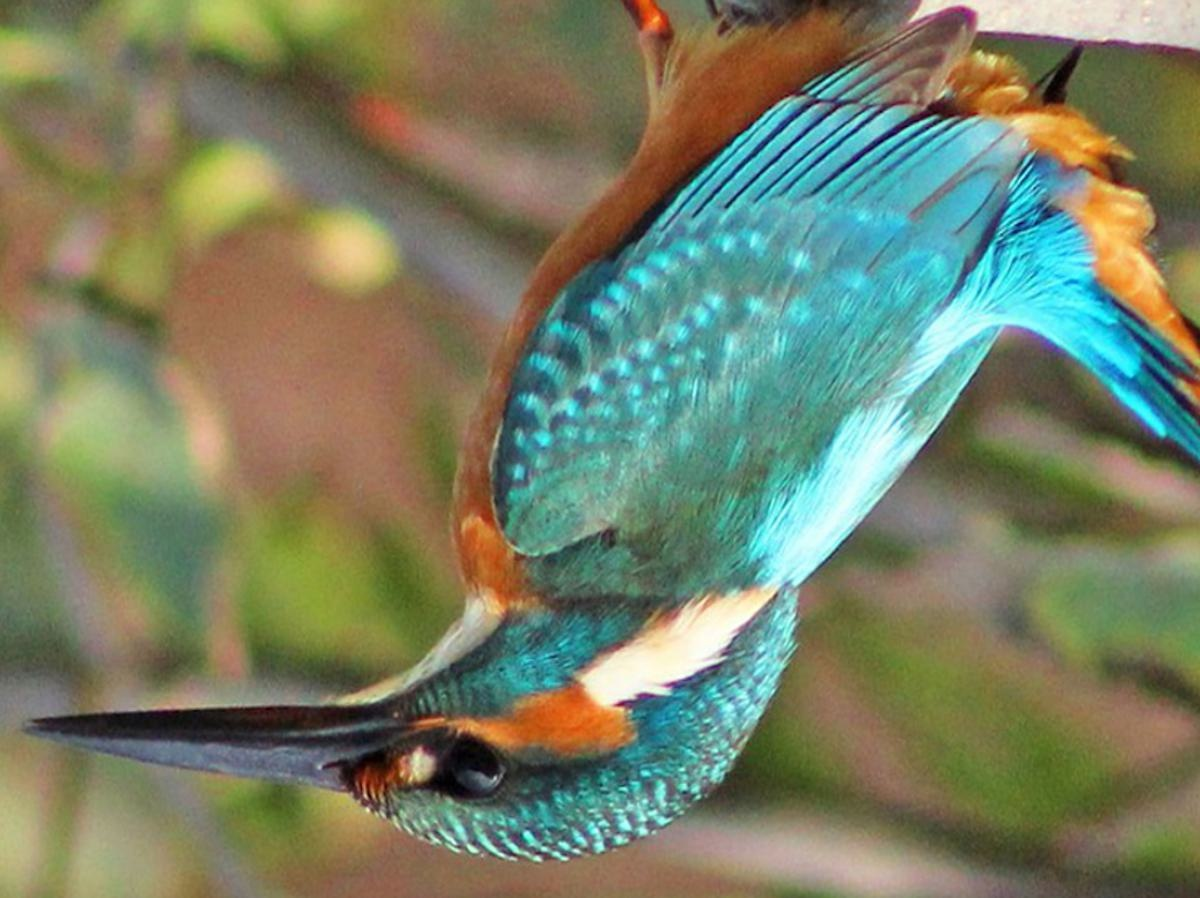kingfisher: (31, 35, 1145, 862)
